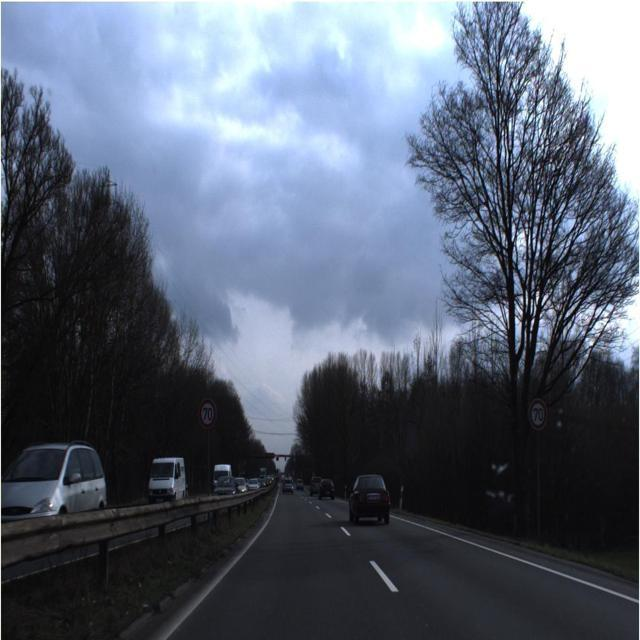forb_speed_over_70: (198, 397, 217, 430), (528, 398, 547, 431)
